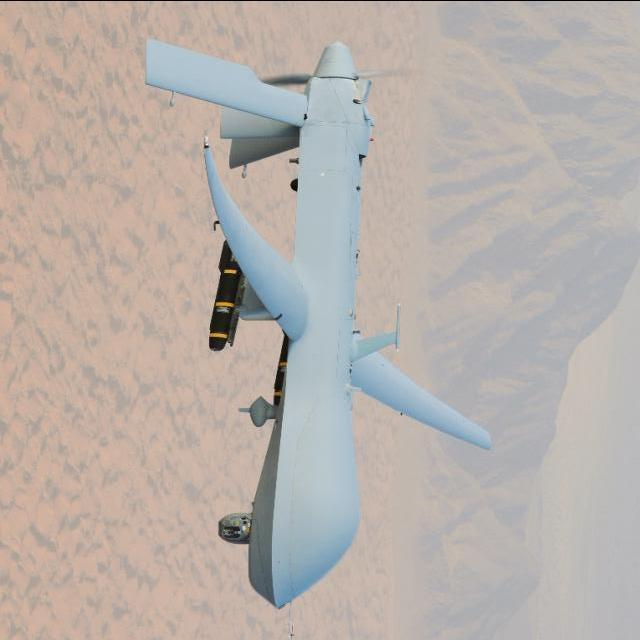missile: (208, 238, 242, 352)
